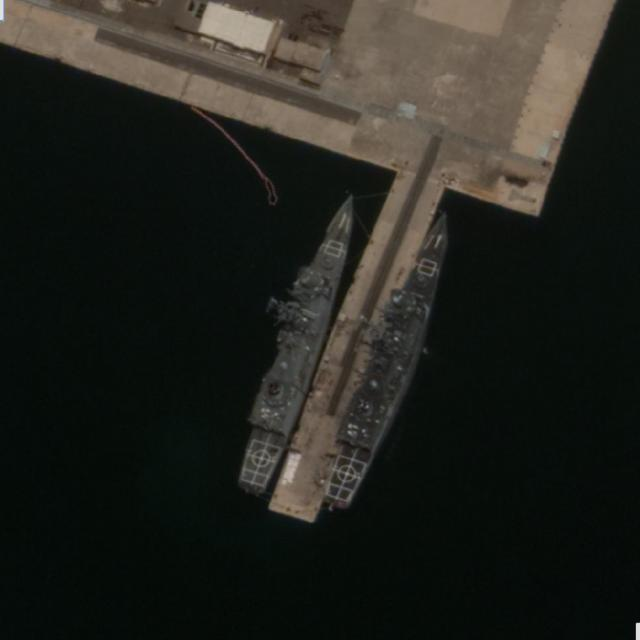Dock: (264, 172, 442, 527)
Frigate: (227, 185, 374, 499), (319, 207, 470, 511)
